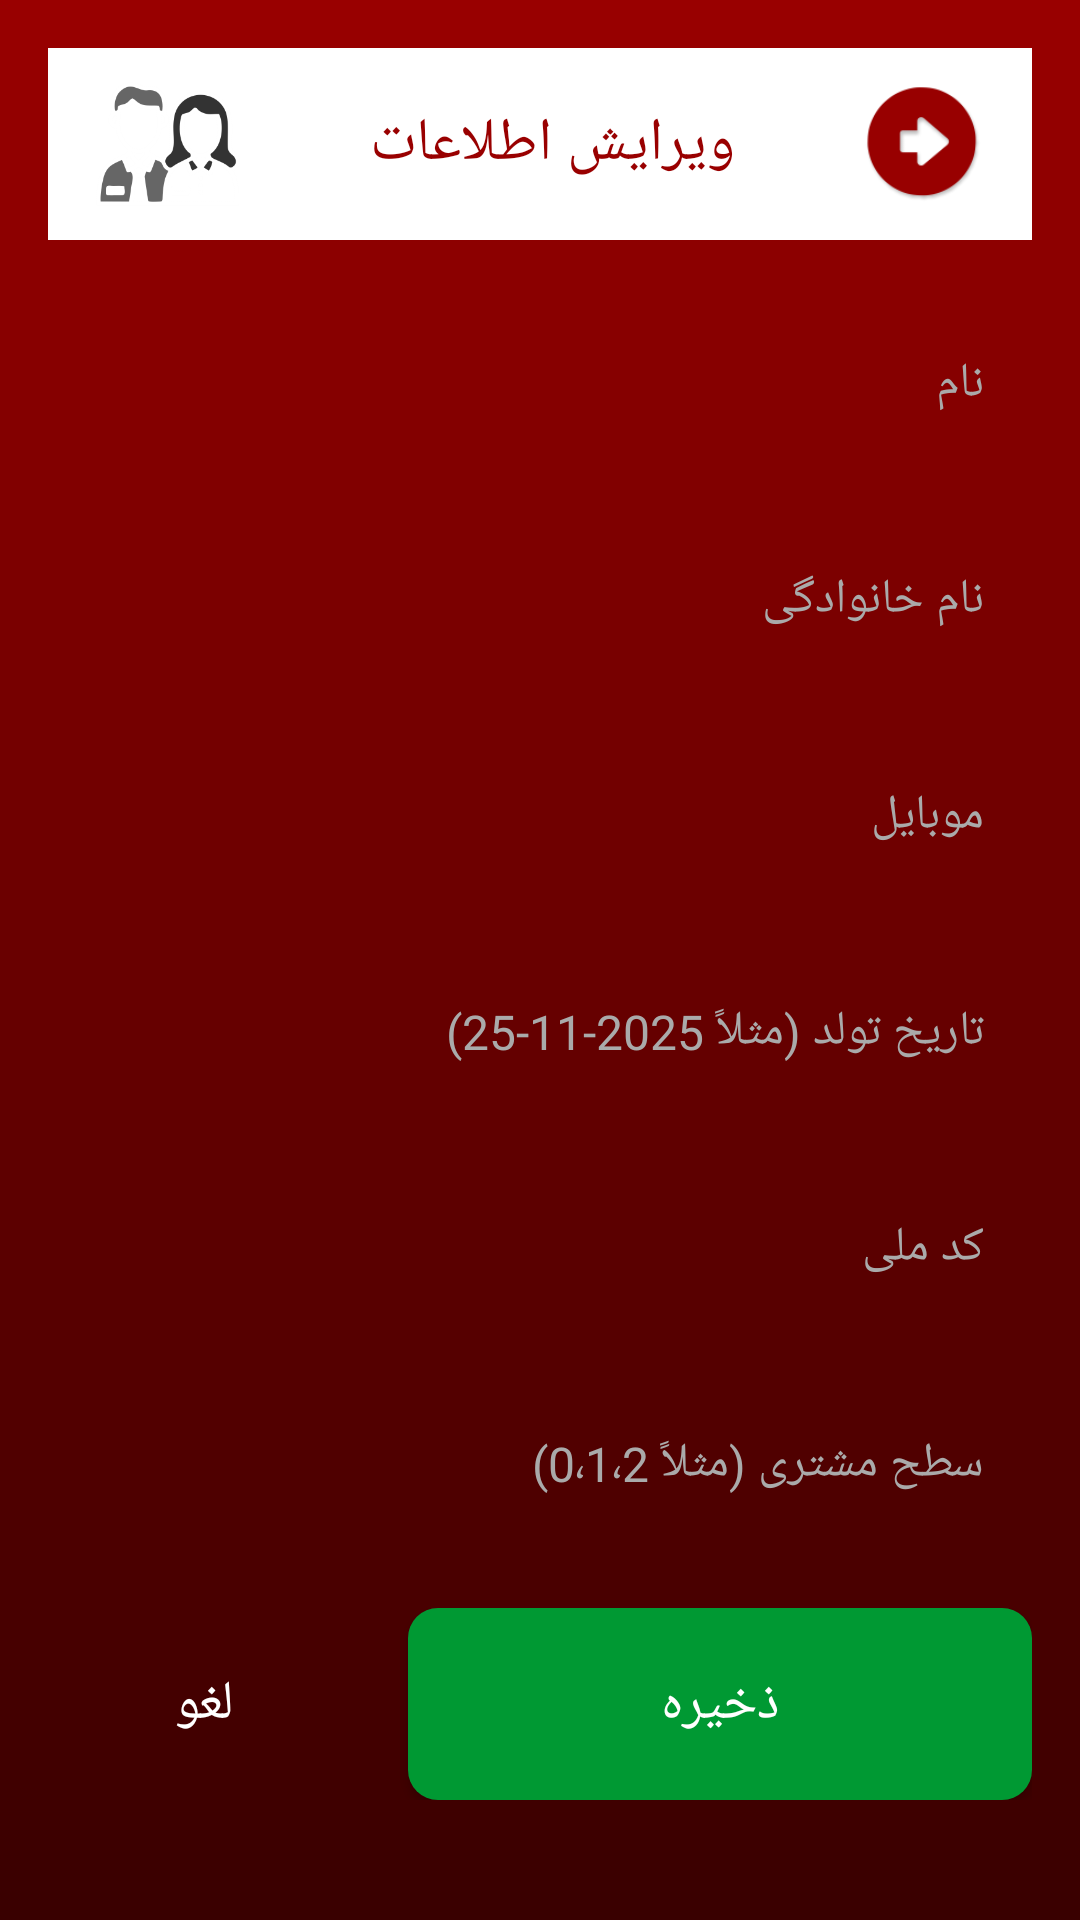

Icon bounding boxes for this 1080px×1920px phone screenshot, format (x1=x1, y1=y1, x2=x2, y2=y2):
customericon: (x1=100, y1=86, x2=236, y2=202)
